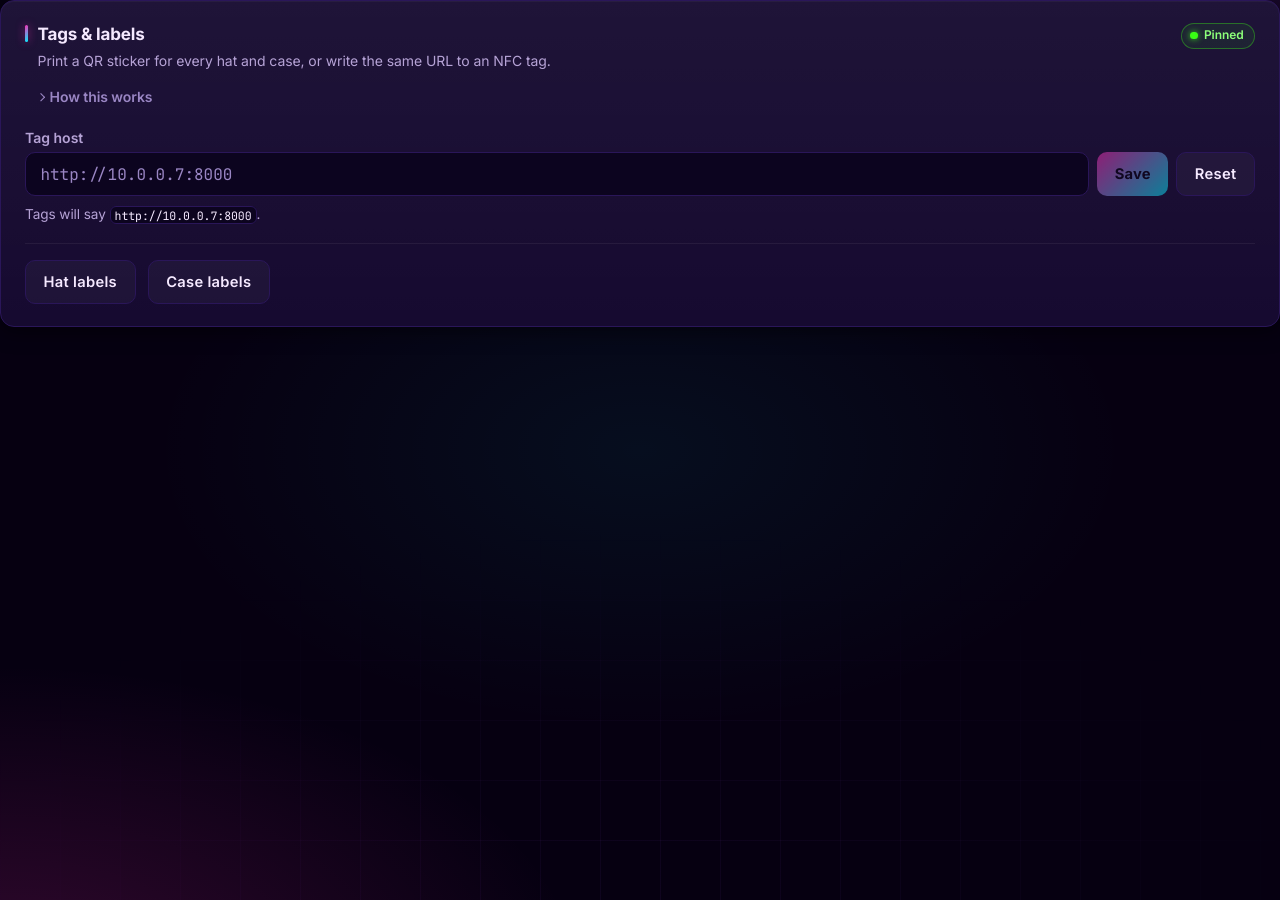
Scenario: TagsCard › resets a pinned host
The image size is (1280, 900).
Expected: the text "Pinned" is shown, [1181,23,1255,49]
Click the button "Reset": click(1216, 174) [1176,152,1255,196]
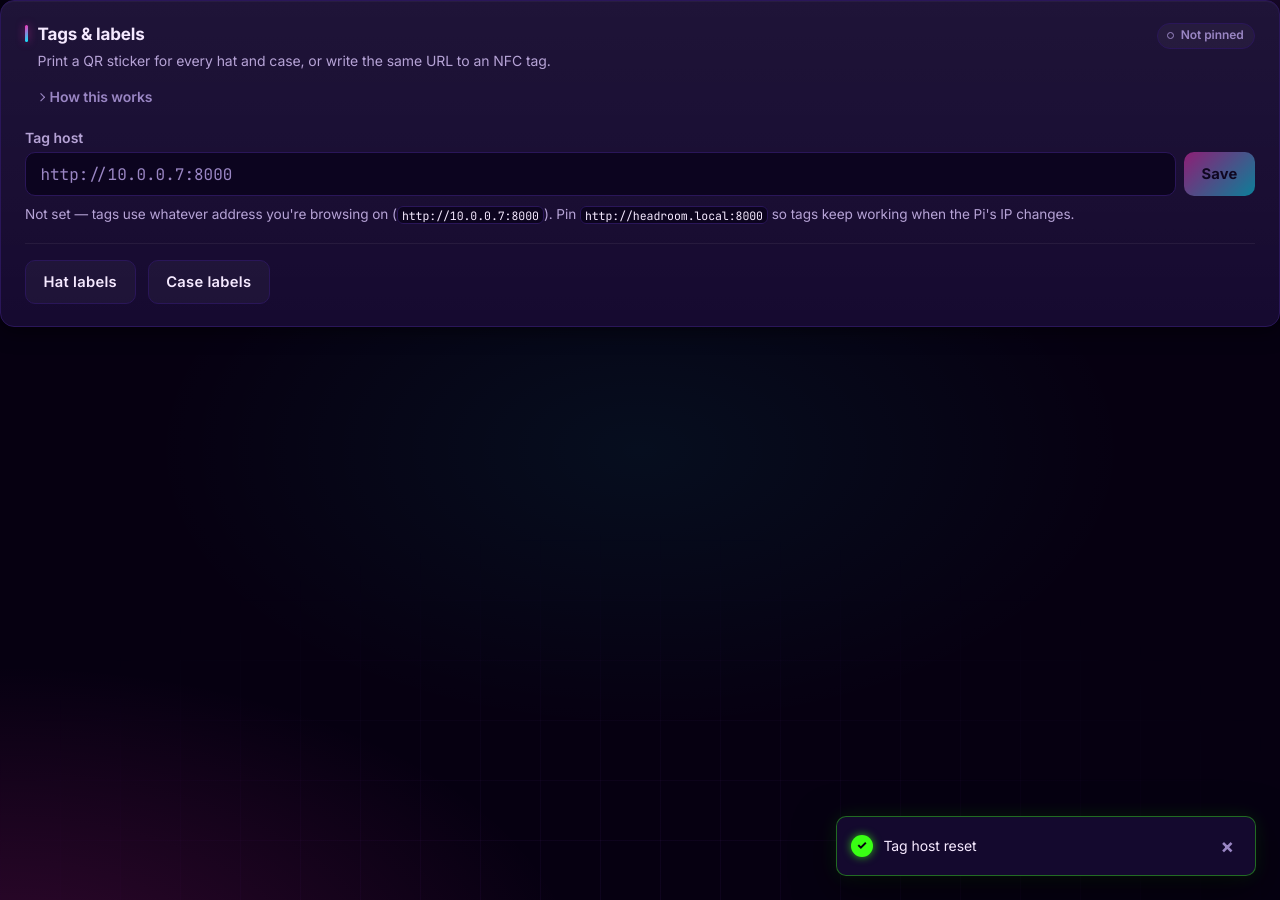
Result: the text "Tag host reset" is shown at [883,837,977,854]
Result: the text "Not pinned" is shown at [1158,23,1255,49]
